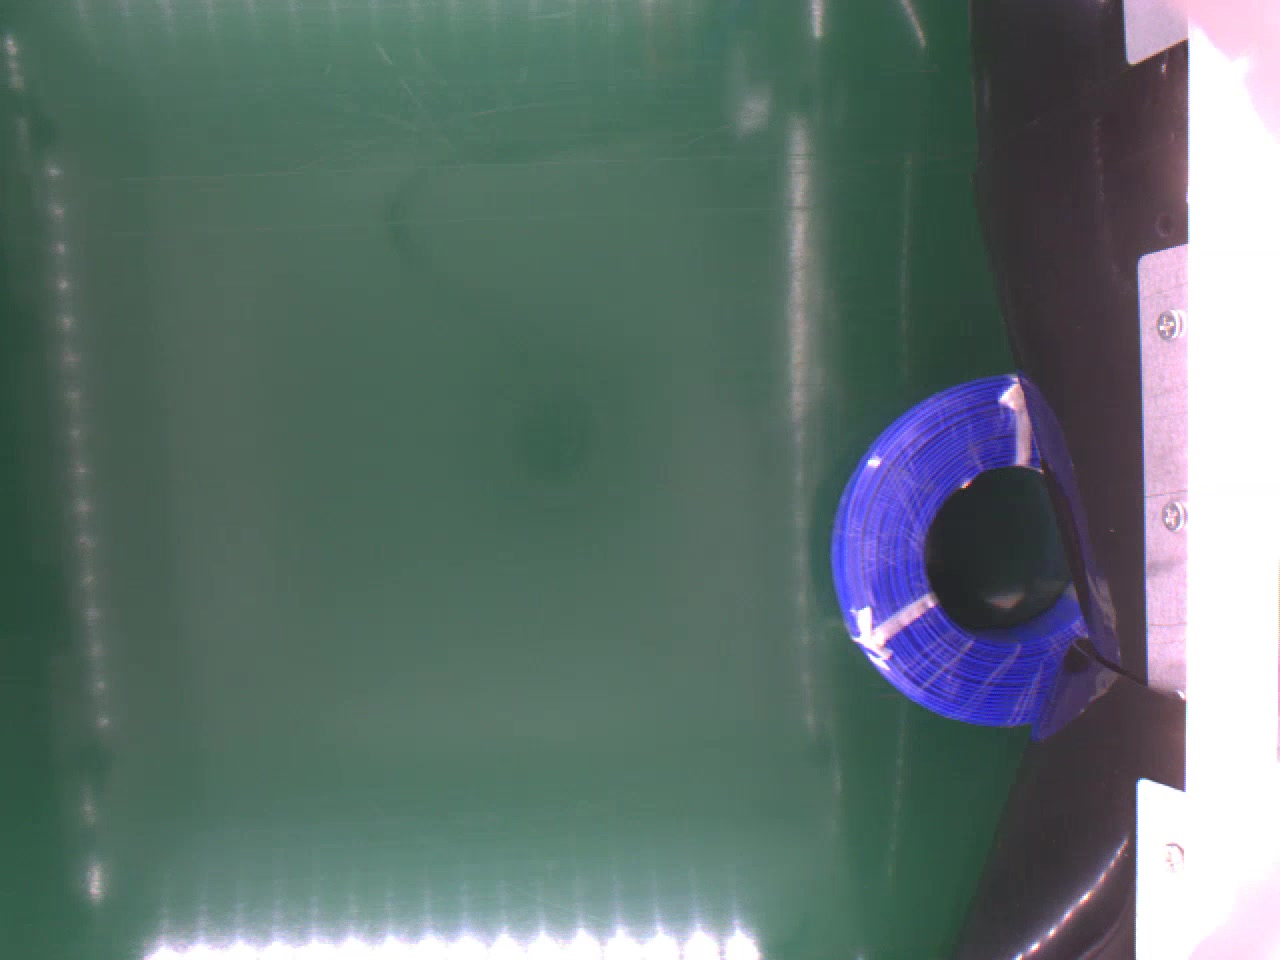blue: (834, 379, 1082, 724)
